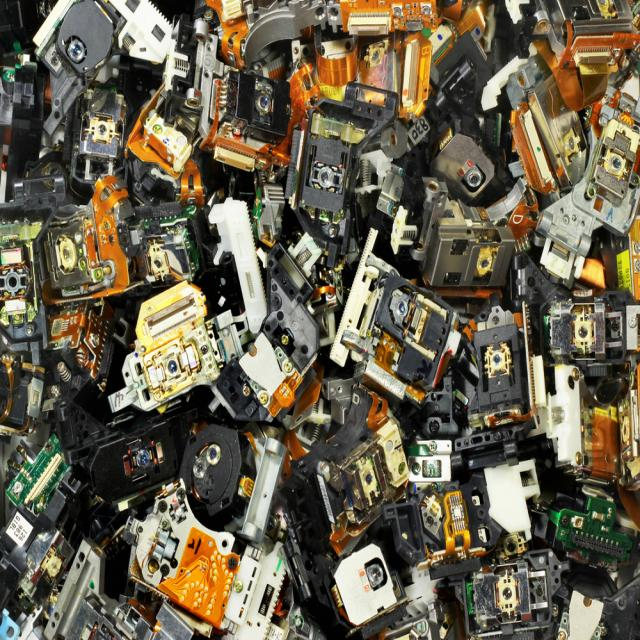hazard: (2, 0, 579, 639)
